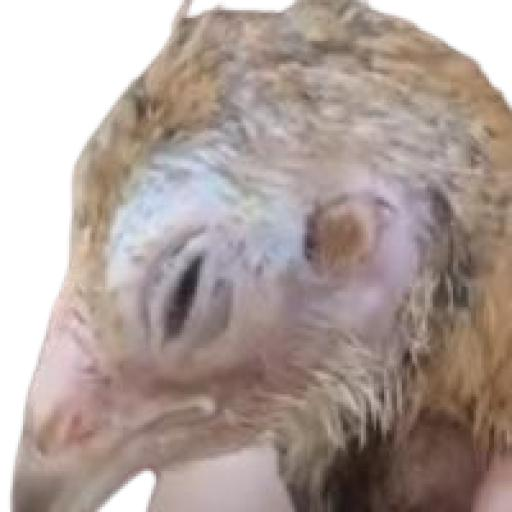disease: (140, 236, 256, 373)
